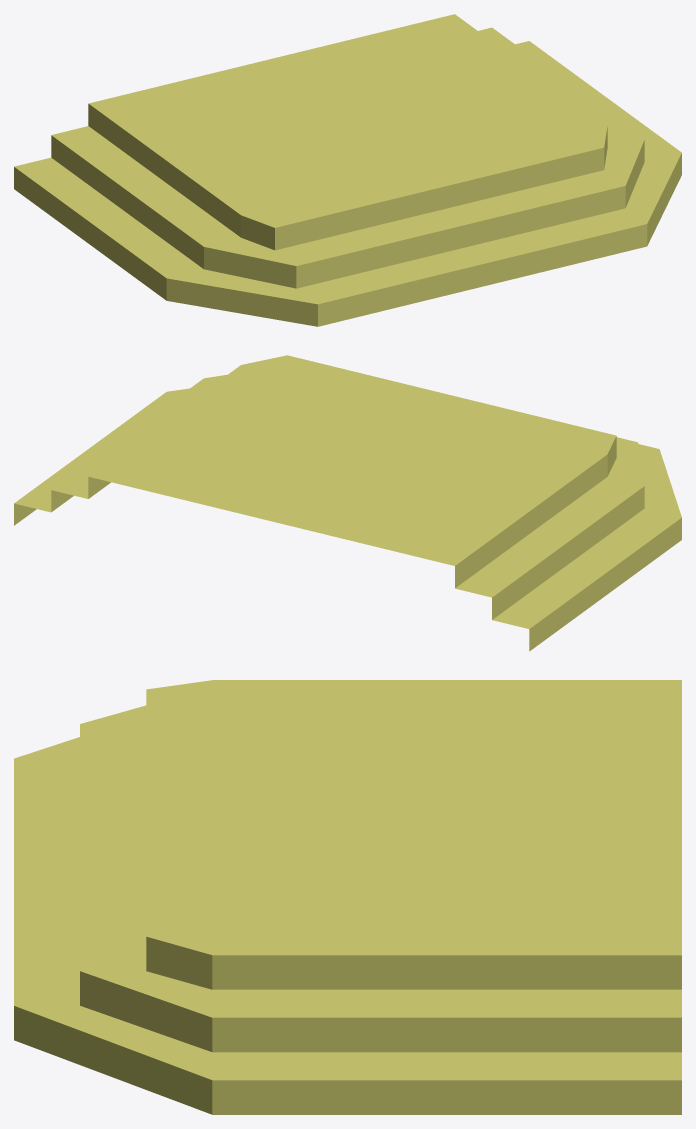
Rendered from stairs_small.FBX.
The picture shows the model from 3 angles, top to bottom: view 1: azimuth 30°, elevation 25°; view 2: azimuth 150°, elevation 25°; view 3: azimuth 270°, elevation 25°; orthographic projection. The views are drawn at different scales.
Parts seen in each view (by area): view 1: Box001; view 2: Box001; view 3: Box001.
Part boxes in pixels (x1,y1,x2,y2): Box001: (14, 14, 681, 326); Box001: (14, 355, 681, 651); Box001: (14, 680, 681, 1114).
Bounding box in the file's own units: 264 × 32.97 × 192.
